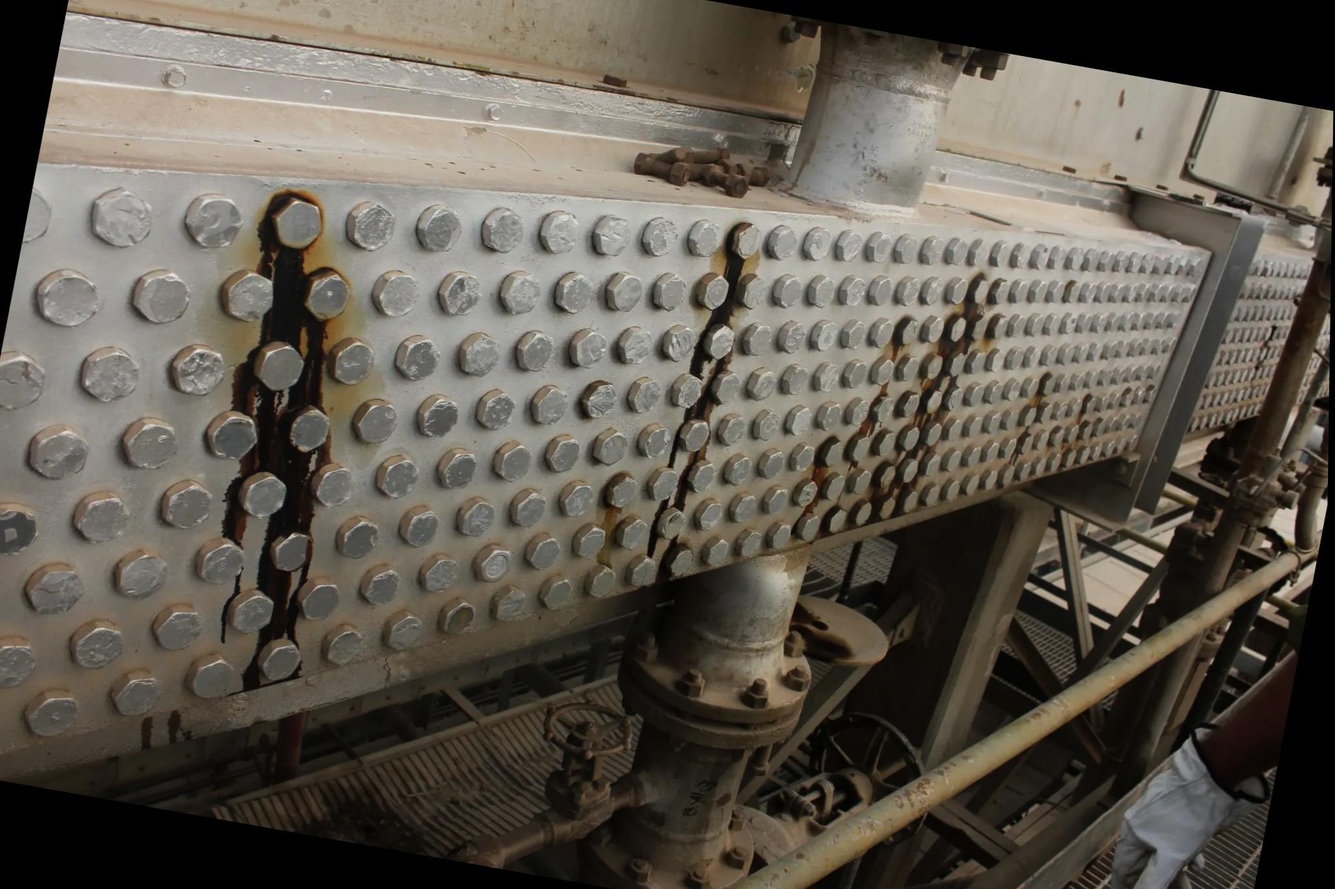leak: (209, 183, 336, 702), (798, 274, 1017, 538), (634, 221, 771, 589), (994, 357, 1090, 477)
